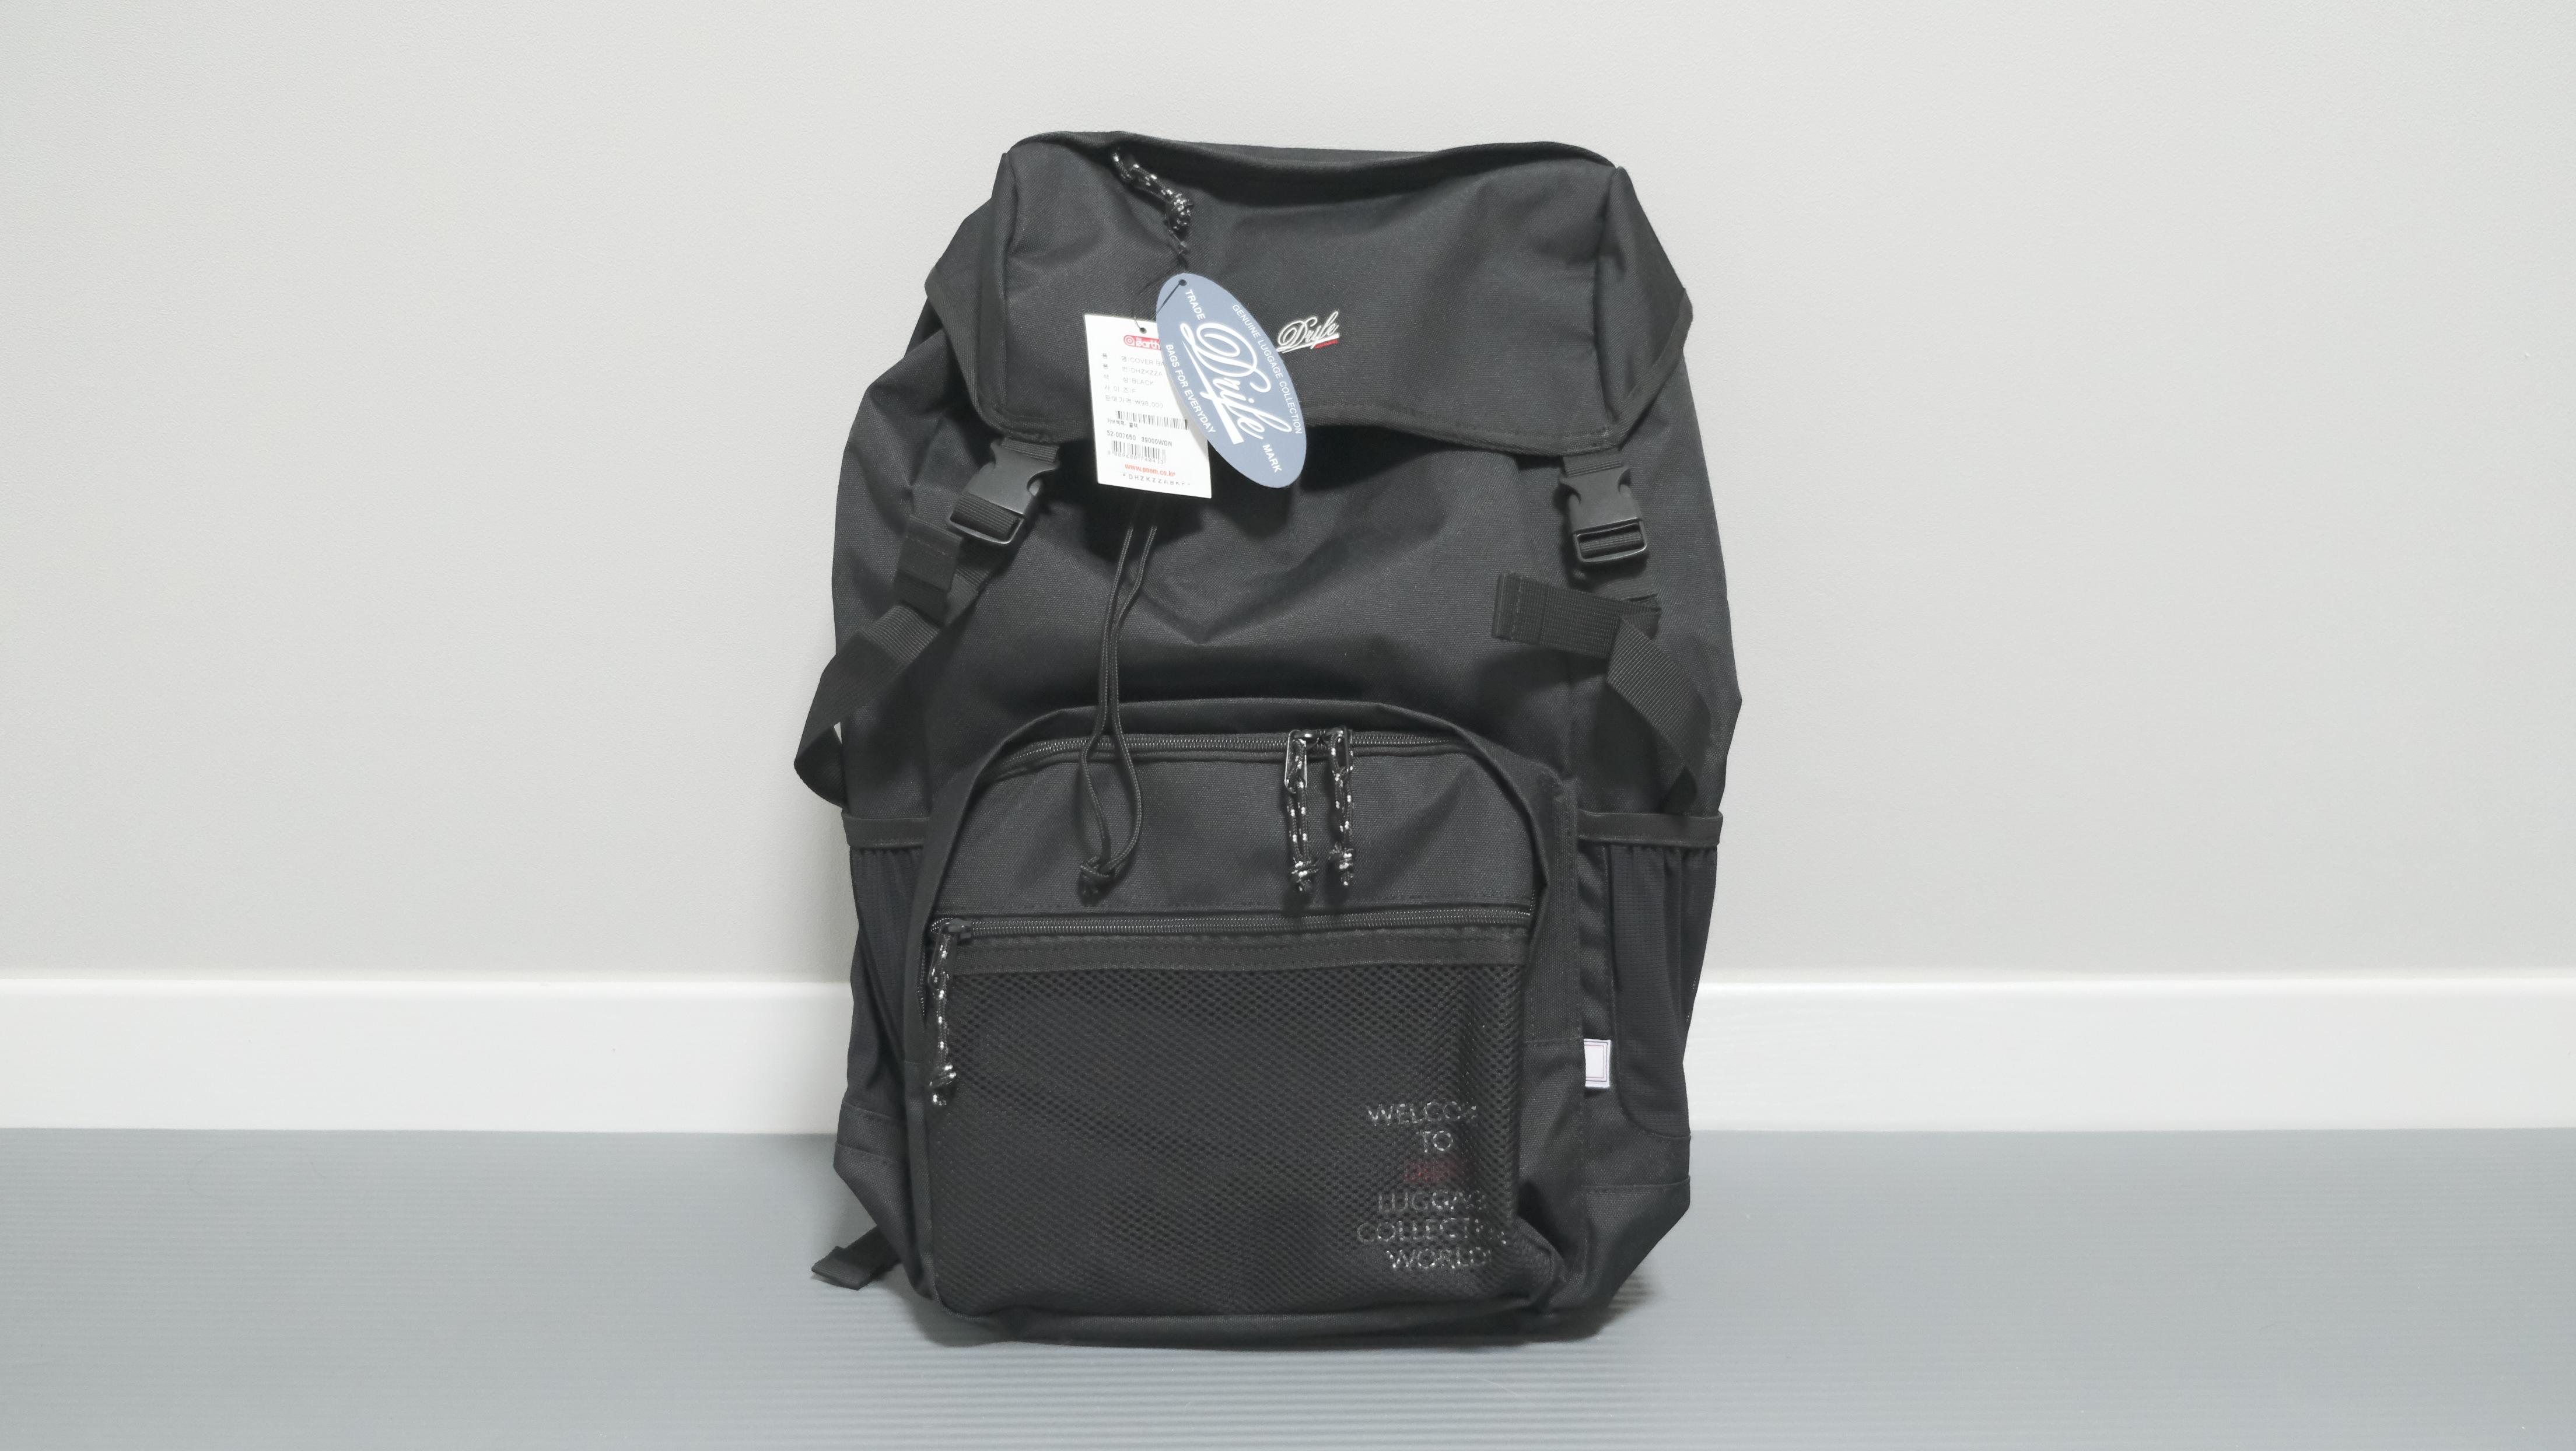backpack: (732, 115, 1755, 1334)
